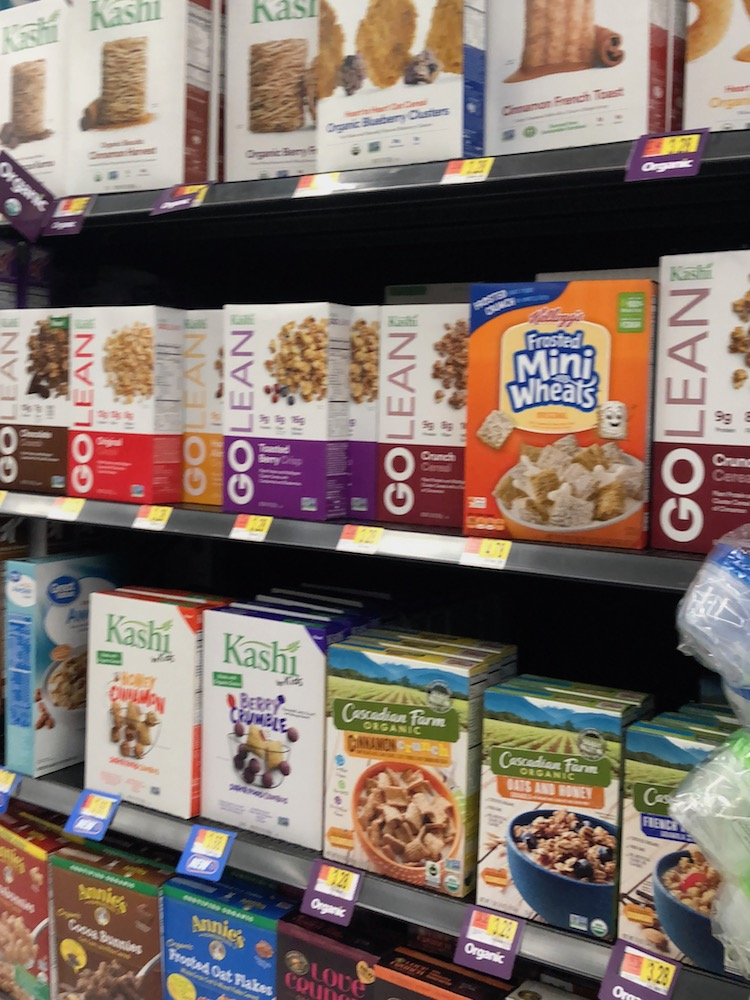Frosted Mini Original -9295869: (470, 300, 651, 550)
